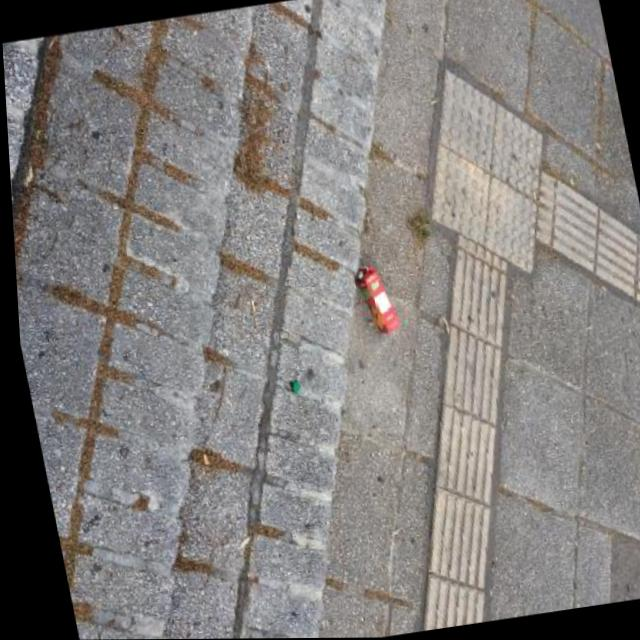cardboard: (355, 261, 403, 336)
